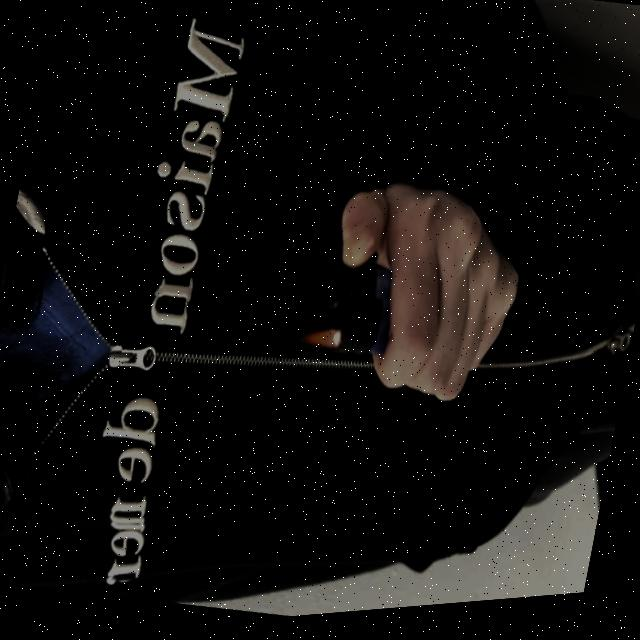Fire: (292, 324, 344, 360)
